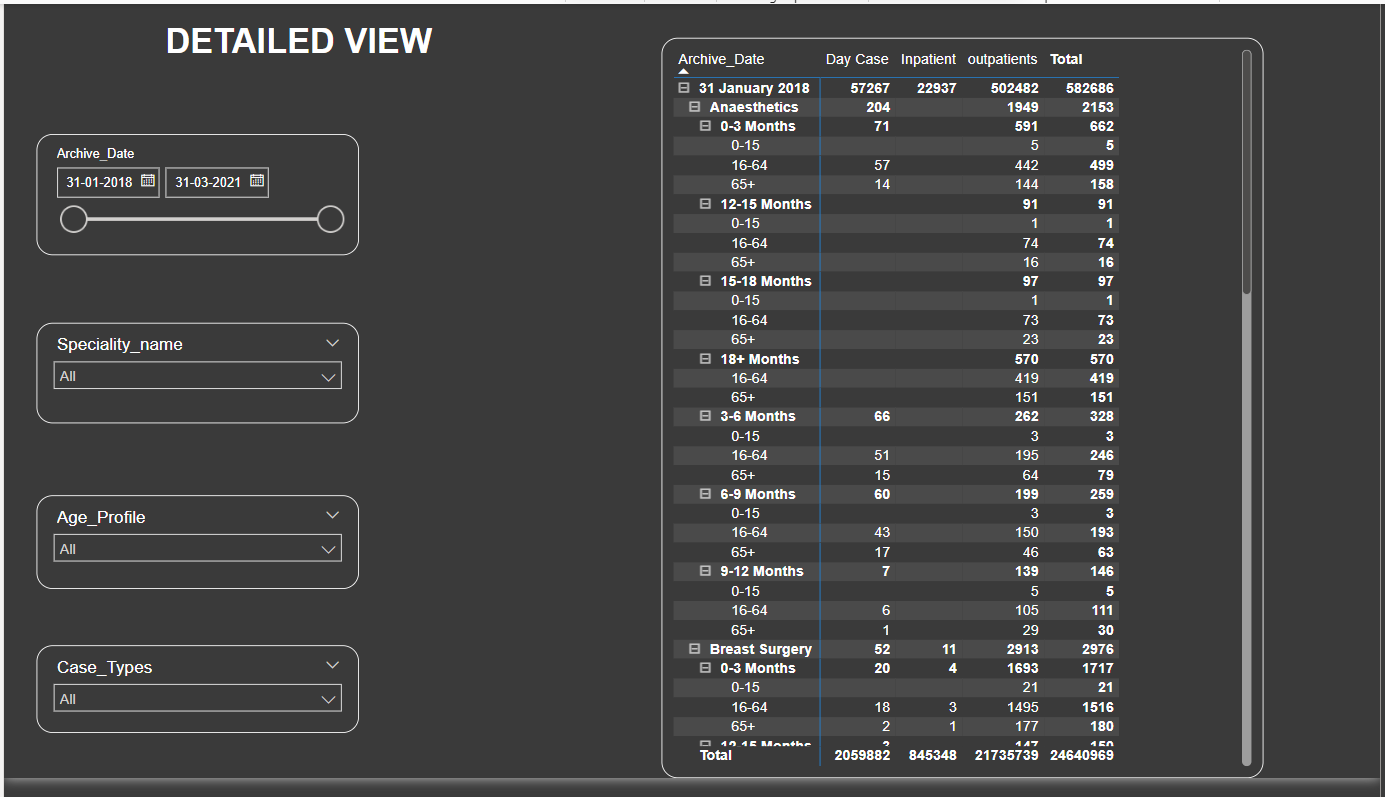

The page's visual inventory and layout, read from the dashboard file:
{"tool":"powerbi","page":{"name":"detail","canvas":[1280,720],"ordinal":1},"visuals":[{"type":"slicer","fields":{"Values":["master.Archive_Date"]},"box":[30,121.2,300,112.5],"z":0},{"type":"slicer","fields":{"Values":["master.Case_Types"]},"box":[30,596.2,300,81.2],"z":1000},{"type":"slicer","fields":{"Values":["master.Speciality_name"]},"box":[30,296.2,300,93.8],"z":2000},{"type":"textbox","box":[100,11.2,348.8,68.8],"z":3000},{"type":"slicer","fields":{"Values":["master.Age_Profile"]},"box":[30,457.5,300,87.5],"z":4000},{"type":"pivotTable","fields":{"Rows":["master.Archive_Date","master.Speciality_name","master.Time_Bands","master.Age_Profile"],"Columns":["master.Case_Types"],"Values":["Sum(master.Total)"]},"box":[611.4,31.4,560,688.6],"z":5000}]}

Visuals, with their boxes in screenshot pixels (x1, y1, x2, y2), scaled from the page's 1280x720 canvas onto the 1385x797 screenshot:
slicer - master.Archive_Date: [x1=32, y1=134, x2=357, y2=259]
slicer - master.Case_Types: [x1=32, y1=660, x2=357, y2=750]
slicer - master.Speciality_name: [x1=32, y1=328, x2=357, y2=432]
textbox: [x1=108, y1=12, x2=486, y2=89]
slicer - master.Age_Profile: [x1=32, y1=506, x2=357, y2=603]
pivotTable - master.Archive_Date x master.Speciality_name: [x1=662, y1=35, x2=1267, y2=796]
